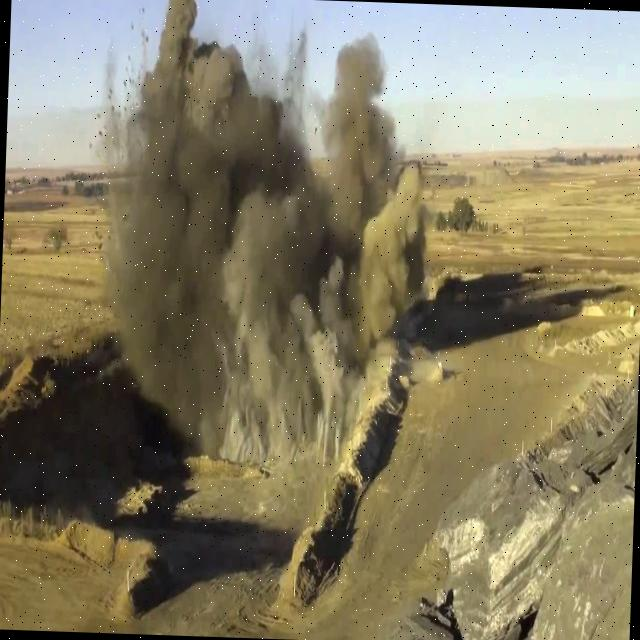explosion: (81, 0, 481, 541)
